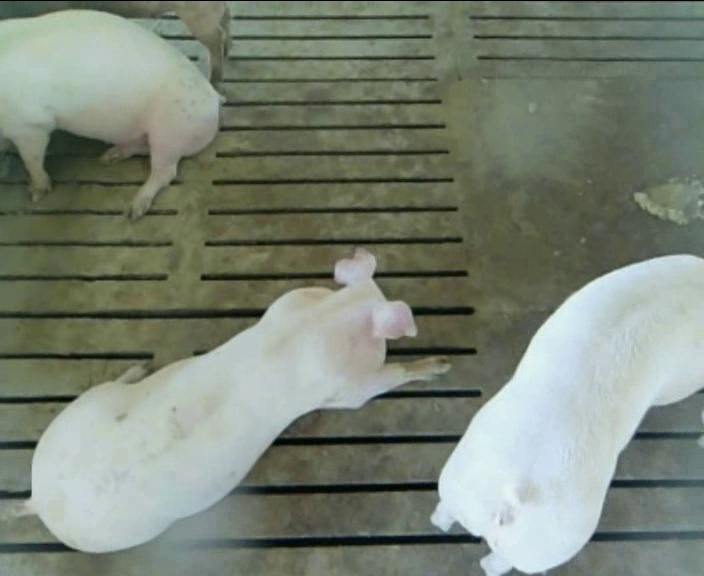pig: (14, 249, 449, 552), (431, 255, 703, 574)
